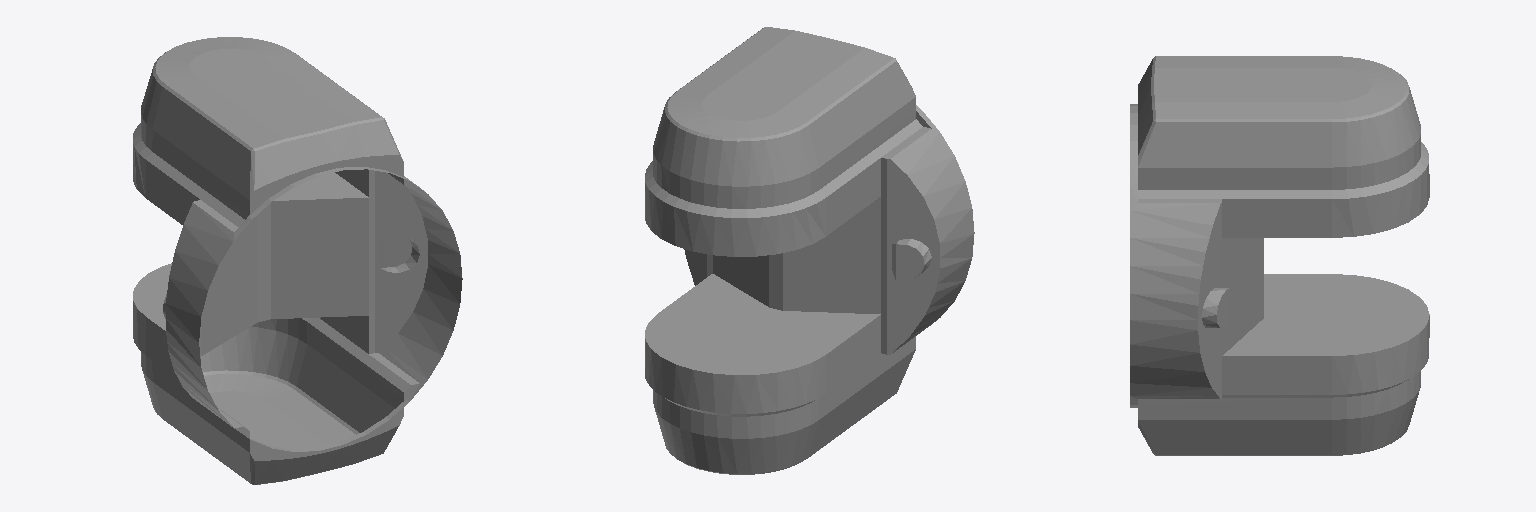
File: wamShoulderLink1.obj
The picture shows the model from 3 angles: view 1: azimuth 30°, elevation 25°; view 2: azimuth 150°, elevation 25°; view 3: azimuth 270°, elevation 25°; orthographic projection.
Parts seen in each view (by area): view 1: wamShoulderLink1; view 2: wamShoulderLink1; view 3: wamShoulderLink1.
Part boxes in pixels (bbox=[...]): wamShoulderLink1: bbox=[133, 37, 462, 484]; wamShoulderLink1: bbox=[645, 27, 974, 474]; wamShoulderLink1: bbox=[1130, 56, 1429, 455].
Bounding box in the file's own units: 0.28 × 0.3476 × 0.2755.